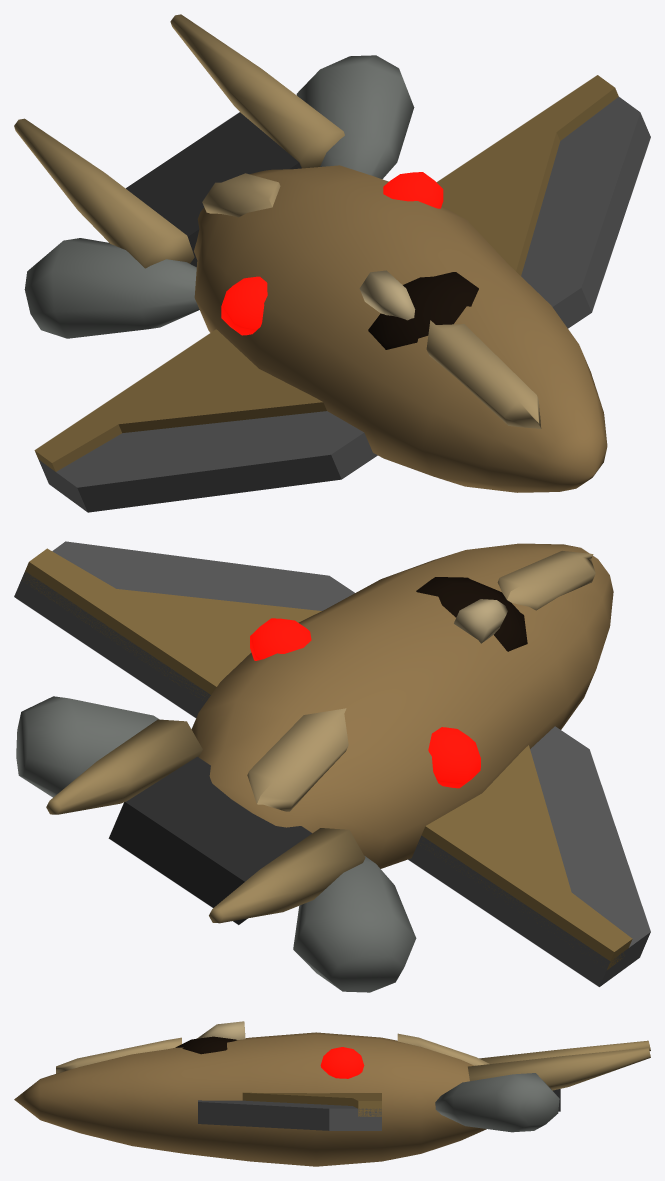
The model's file is newshf-47.glb.
The picture shows the model from 3 angles, top to bottom: view 1: azimuth 30°, elevation 25°; view 2: azimuth 150°, elevation 25°; view 3: azimuth 270°, elevation 25°; orthographic projection. The views are drawn at different scales.
Parts seen in each view (by area): view 1: newshf-47_f1; view 2: newshf-47_f1; view 3: newshf-47_f1.
Part boxes in pixels (box(x1,y1,x2,y2)): newshf-47_f1: box(14, 14, 650, 512); newshf-47_f1: box(14, 541, 650, 992); newshf-47_f1: box(14, 1021, 650, 1166).
Bounding box in the file's own units: 1.43 × 0.65 × 2.02.
